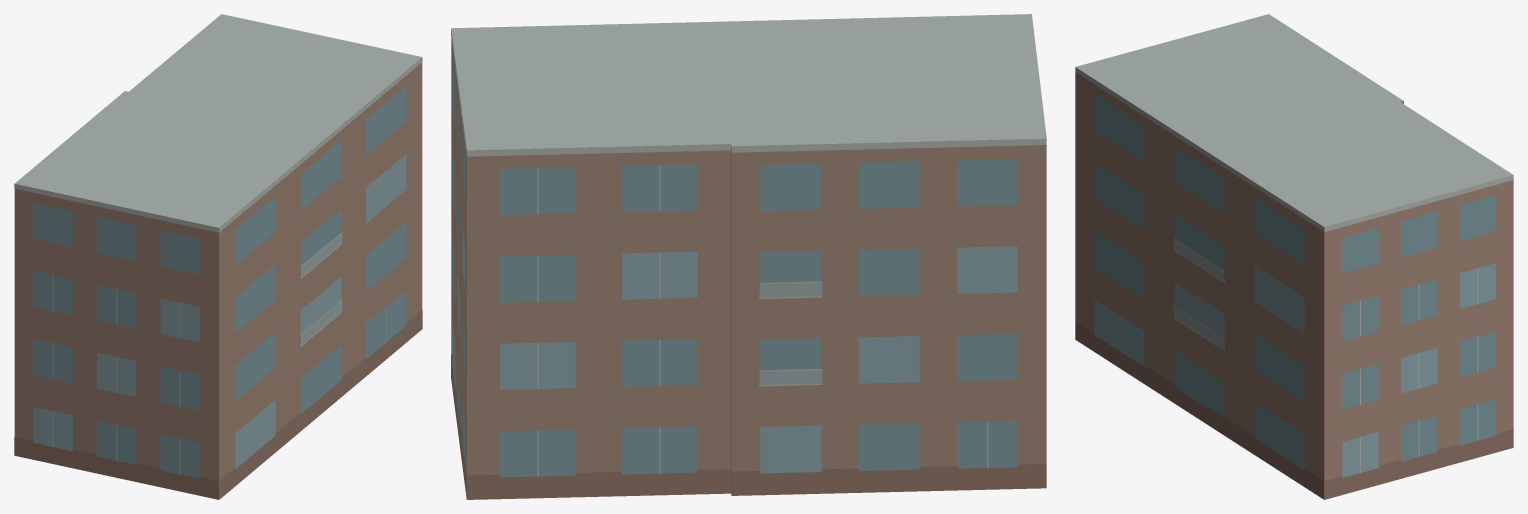
File: survey-upis-32597452.glb
3 renders of one model, left to right at view 1: azimuth 30°, elevation 25°; view 2: azimuth 150°, elevation 25°; view 3: azimuth 270°, elevation 25°, orthographic. The views are drawn at different scales.
Visible parts, largest first — view 1: survey-upis-32597452.tmp; view 2: survey-upis-32597452.tmp; view 3: survey-upis-32597452.tmp.
Part boxes in pixels (x1=…): survey-upis-32597452.tmp: x1=14, y1=14, x2=422, y2=499; survey-upis-32597452.tmp: x1=451, y1=14, x2=1046, y2=499; survey-upis-32597452.tmp: x1=1075, y1=14, x2=1513, y2=499.
Size of the model in its own units: 22.68 by 13.52 by 19.71.
